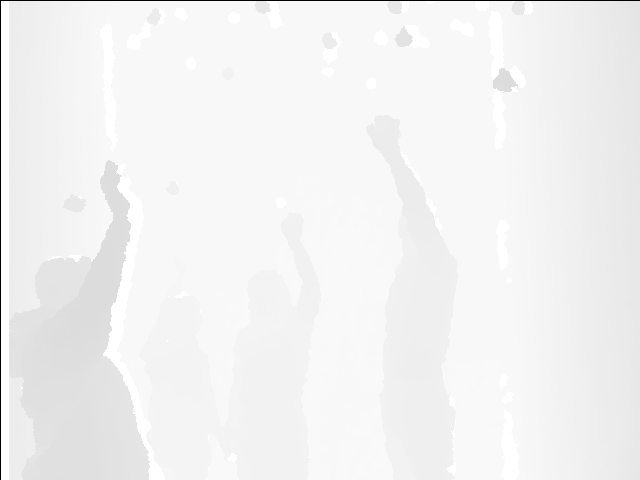hand: (366, 112, 399, 157), (99, 162, 127, 205), (281, 208, 305, 250), (173, 254, 193, 285)
